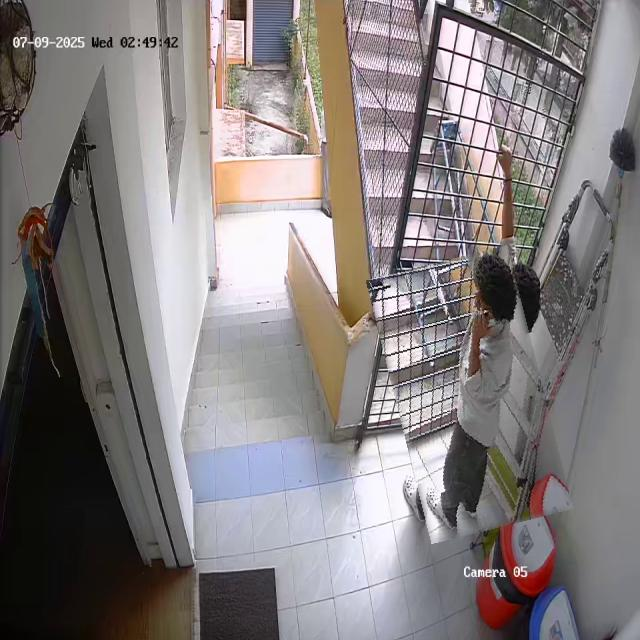person: (382, 252, 558, 538)
